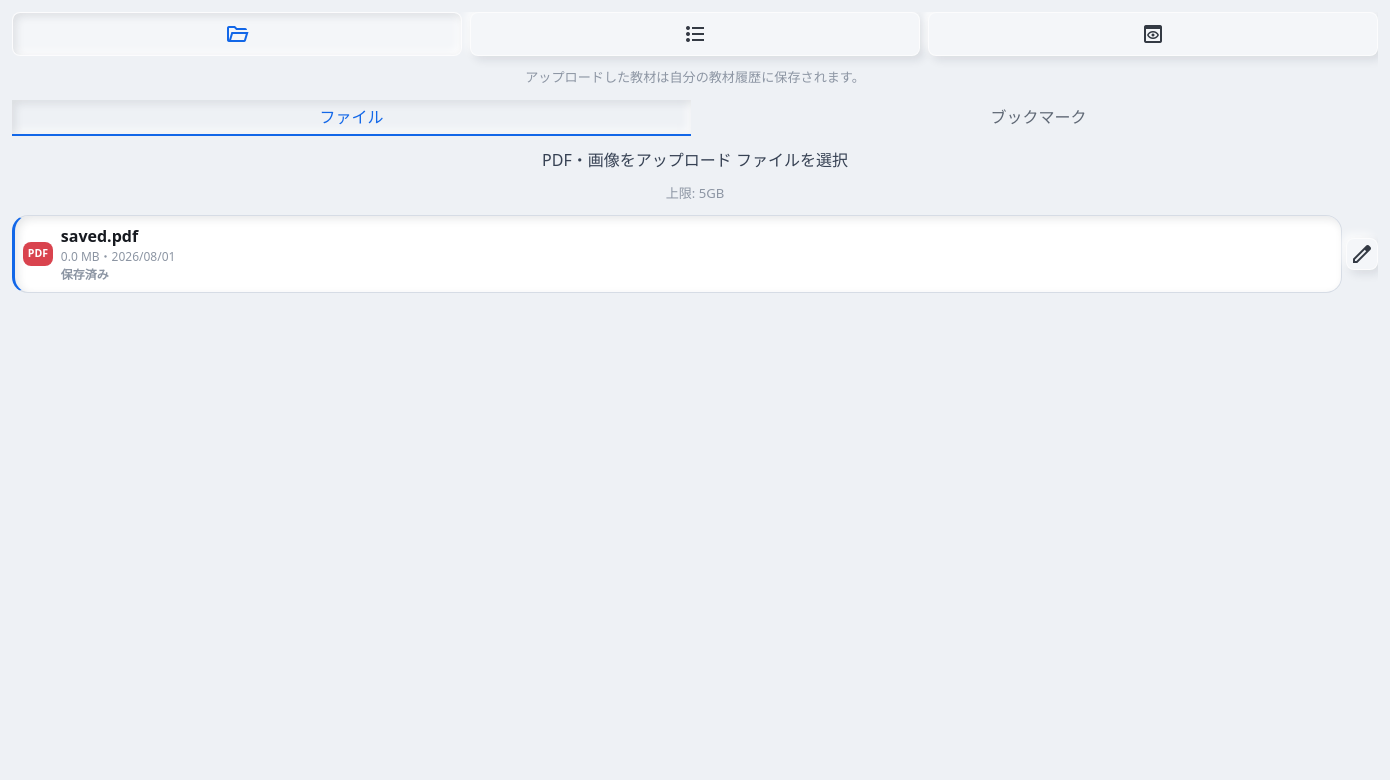
Test case: TextbookPanel › ログイン時は保存済み教材を現在のノートへ復元する
The width and height of the screenshot is (1390, 780).
Click the button named "プレビュー" at (1153, 34), box left=928, top=12, right=1378, bottom=56
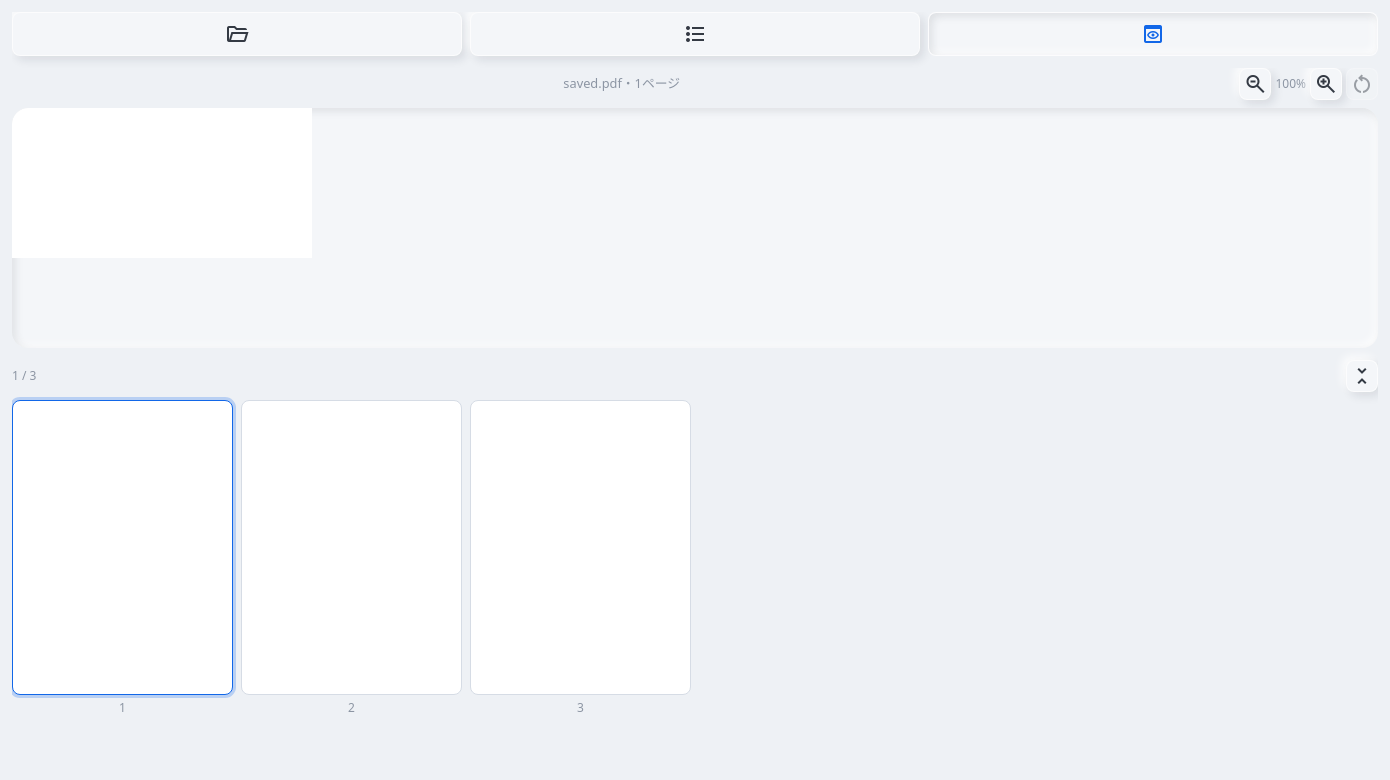
expect the drawing named "saved.pdf 1ページ" is shown: met, box left=12, top=108, right=312, bottom=258
